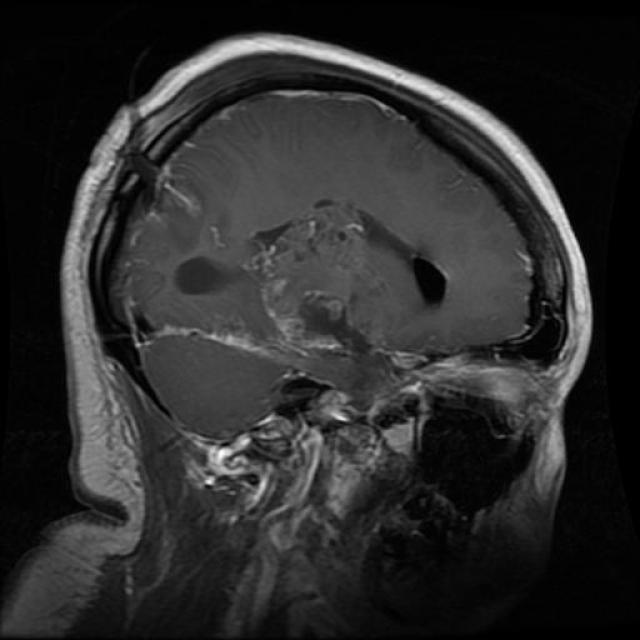glioma: (248, 199, 452, 359)
